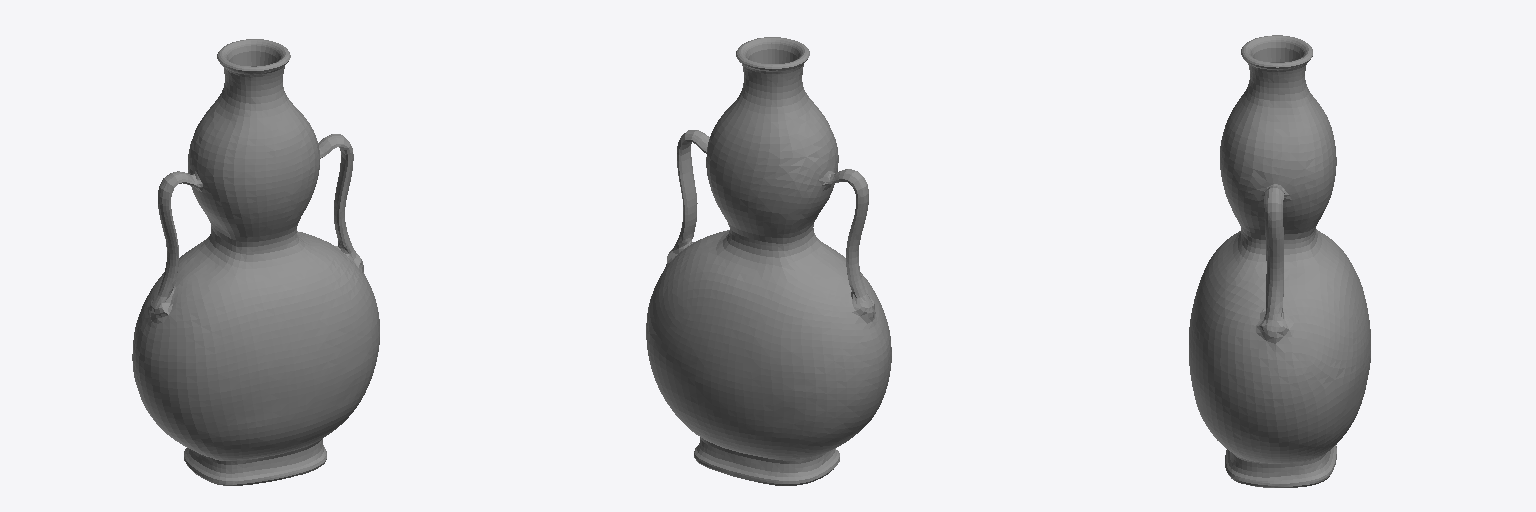
3 renders of one model, left to right at view 1: azimuth 30°, elevation 25°; view 2: azimuth 150°, elevation 25°; view 3: azimuth 270°, elevation 25°, orthographic.
Parts seen in each view (by area): view 1: objSZB_ZL_137; view 2: objSZB_ZL_137; view 3: objSZB_ZL_137.
Boxes of the visible parts, x1=… form: objSZB_ZL_137: x1=132, y1=39, x2=379, y2=485; objSZB_ZL_137: x1=646, y1=37, x2=891, y2=485; objSZB_ZL_137: x1=1189, y1=35, x2=1370, y2=487.
Size of the model in its own units: 187 by 322 by 130.